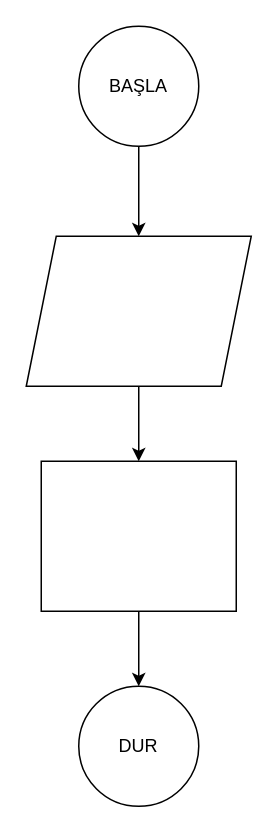
This 278x833 diagram has some shape labels left out. The shapes that lost their labels are listed below. From the top down, each one's centre as x and y in pixels, then its label:
At (138,310): "faruk,2020,vazo".
At (138,535): "(2020-x)-300=1720-x=39x 1720=40x x=43".
